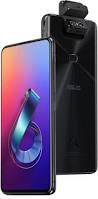asus: (42, 12, 98, 176), (1, 37, 57, 195)
